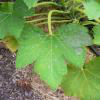Squash Powdery mildew leaf: (13, 21, 95, 90)
